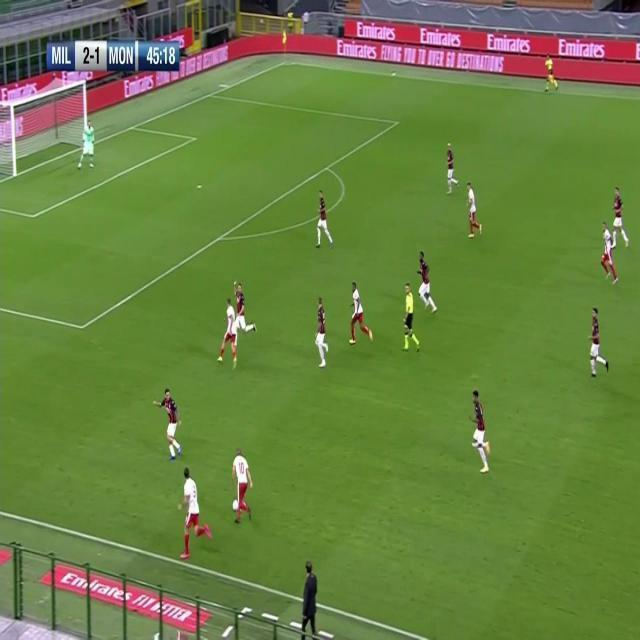ball: (232, 498, 239, 513)
goalkeeper: (77, 120, 96, 170)
player: (178, 465, 211, 559), (153, 386, 185, 460), (470, 390, 493, 475), (231, 446, 255, 526), (348, 281, 375, 348), (587, 306, 610, 380), (217, 297, 239, 367), (416, 250, 439, 316), (232, 281, 258, 339), (599, 223, 620, 286), (611, 184, 631, 246), (315, 188, 334, 250), (315, 296, 330, 372), (465, 181, 483, 239), (445, 141, 460, 196)
referee: (400, 283, 422, 354), (543, 53, 559, 95)
